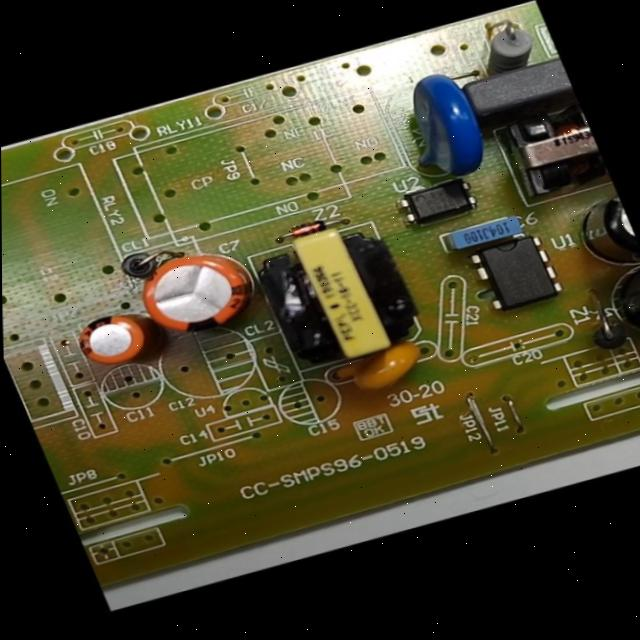Cap1: (115, 227, 276, 354)
Cap2: (61, 299, 173, 381)
Cap3: (554, 179, 640, 286)
Cap4: (577, 256, 640, 359)
MOSFET: (455, 223, 574, 323)
Mov: (370, 63, 506, 200)
Resistor: (461, 11, 547, 82)
Transformer: (236, 209, 433, 389), (485, 92, 610, 206)
